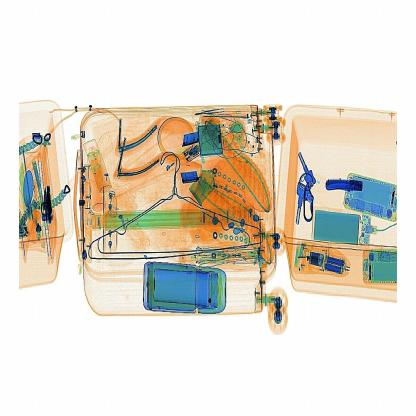knife: (316, 168, 370, 203)
